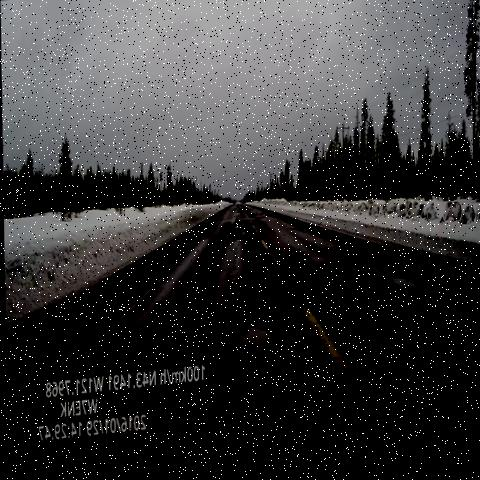pothole: (236, 306, 285, 396), (318, 242, 384, 295), (219, 216, 260, 254), (388, 279, 429, 313), (284, 225, 301, 245)
